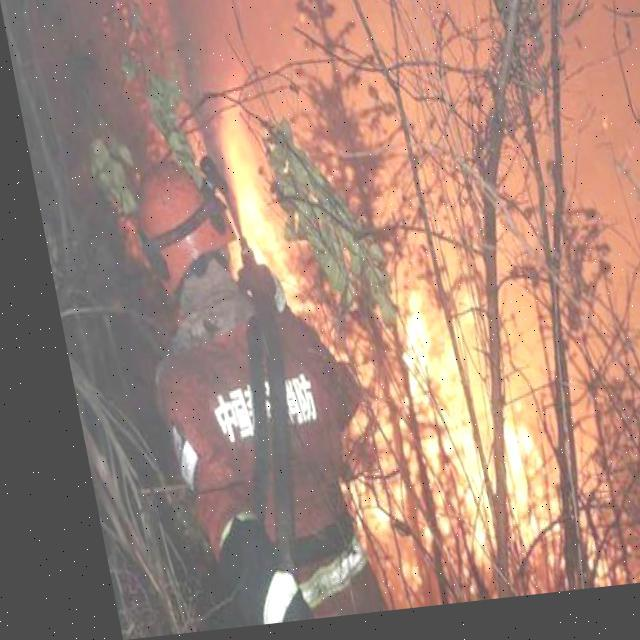Fire: (360, 276, 550, 578), (190, 83, 282, 304)
